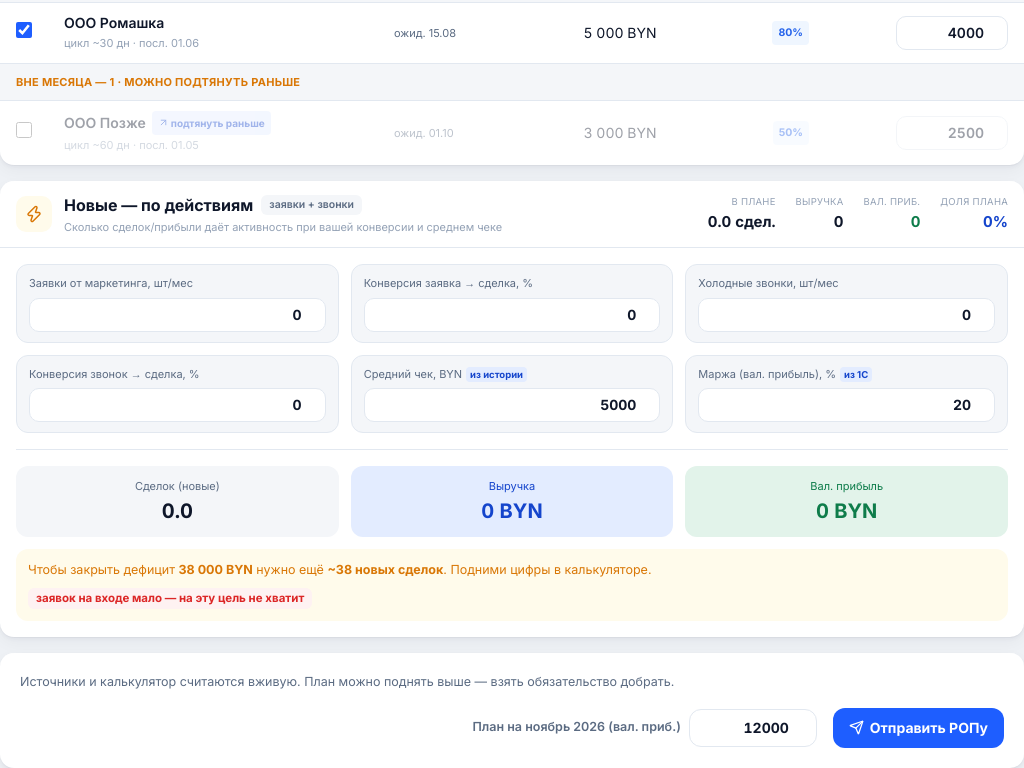
Test case: PlanConstructor › частичный сбой отправки метрик показывает честное «Отправлено частично»
(page scrolled)
Step 1. Click the button "Отправить РОПу" → click(918, 728), box x1=833 y1=708 x2=1004 y2=748
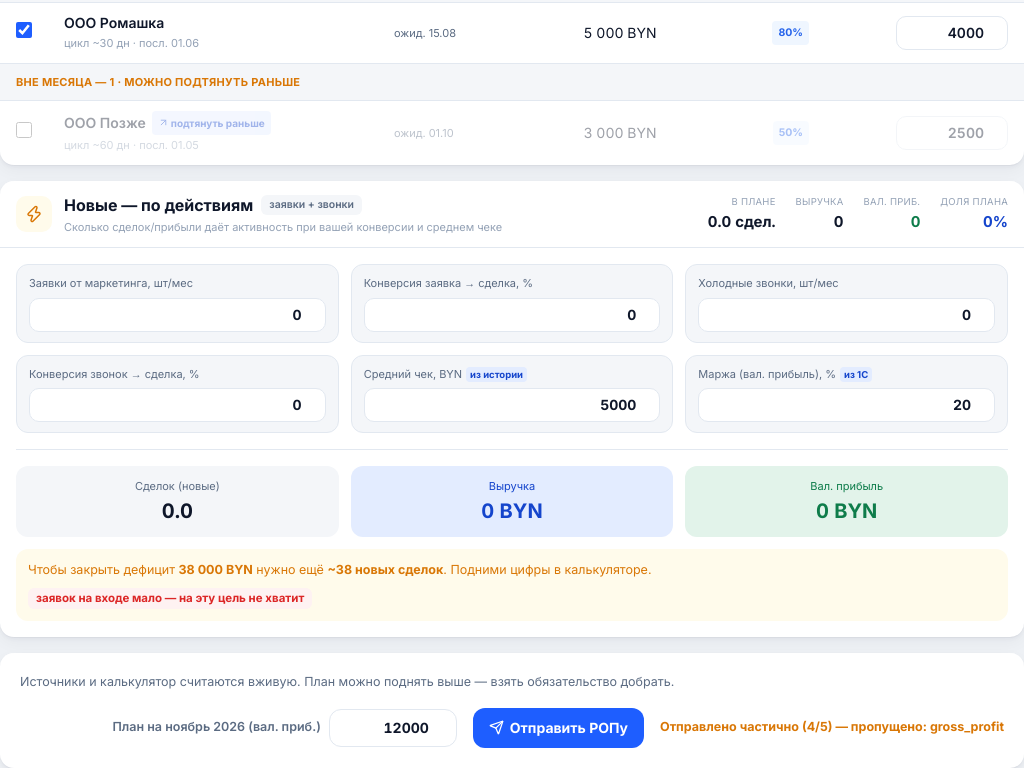
Expected: the text "Отправлено частично (4/5) — пропущено: gross_profit" is shown, x1=660 y1=718 x2=1004 y2=737
